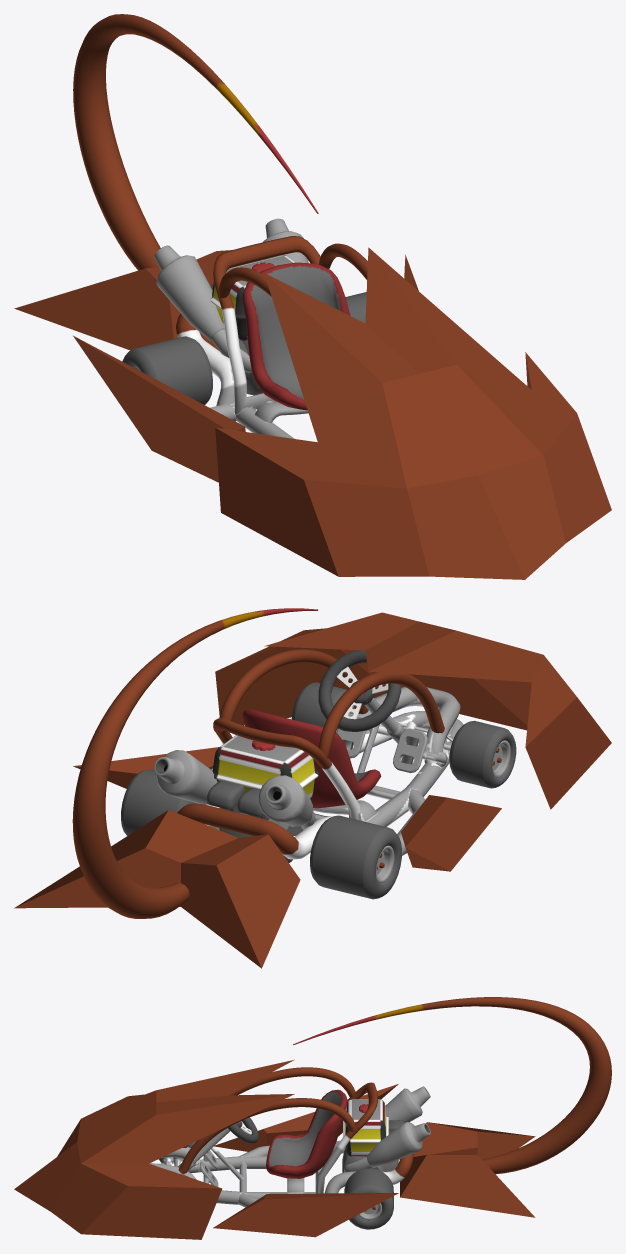
File: horseshoecrabkartbulky3.0.fbx
The picture shows the model from 3 angles, top to bottom: view 1: azimuth 30°, elevation 25°; view 2: azimuth 150°, elevation 25°; view 3: azimuth 270°, elevation 25°; orthographic projection. The views are drawn at different scales.
Visible parts, largest first — view 1: Cube, NurbsPath, Kart_Body, Cadeira, Escapamento, WheelsRearRight, Gas Tank, NurbsPath.001, NurbsPath.002; view 2: Cube, Kart_Body, NurbsPath, WheelsRearRight, Escapamento, Gas Tank, WheelFrontRight, Cadeira, volante, NurbsPath.001, WheelrearLeft, NurbsPath.002 (+2 smaller); view 3: Cube, NurbsPath, Kart_Body, Cadeira, Escapamento, WheelrearLeft, Gas Tank, NurbsPath.002, NurbsPath.001, volante, Motor.
Boxes of the visible parts, x1,y1,x2,y2 form: Cube: [14, 247, 611, 579]; NurbsPath: [73, 14, 318, 270]; Kart_Body: [176, 236, 320, 438]; Cadeira: [242, 262, 350, 410]; Escapamento: [154, 218, 308, 340]; WheelsRearRight: [122, 336, 212, 404]; Gas Tank: [210, 255, 295, 340]; NurbsPath.001: [218, 267, 271, 298]; NurbsPath.002: [319, 243, 367, 280]; Cube: [14, 612, 611, 968]; Kart_Body: [177, 687, 463, 859]; NurbsPath: [72, 608, 318, 918]; WheelsRearRight: [310, 815, 401, 899]; Escapamento: [154, 750, 312, 826]; Gas Tank: [211, 735, 319, 798]; WheelFrontRight: [449, 720, 516, 788]; Cadeira: [242, 709, 381, 808]; volante: [318, 650, 401, 731]; NurbsPath.001: [318, 672, 444, 758]; WheelrearLeft: [121, 769, 204, 835]; NurbsPath.002: [219, 649, 368, 720]; Cube: [14, 1059, 535, 1239]; NurbsPath: [293, 997, 611, 1174]; Kart_Body: [149, 1082, 413, 1207]; Cadeira: [266, 1089, 347, 1178]; Escapamento: [367, 1086, 430, 1167]; WheelrearLeft: [344, 1168, 393, 1229]; Gas Tank: [343, 1099, 388, 1156]; NurbsPath.002: [178, 1098, 355, 1174]; NurbsPath.001: [183, 1067, 355, 1147]; volante: [228, 1117, 258, 1143]; Motor: [342, 1148, 398, 1172].
Bounding box in the file's own units: 171 × 141 × 395.
Materials: 3 (3 with a texture image).
